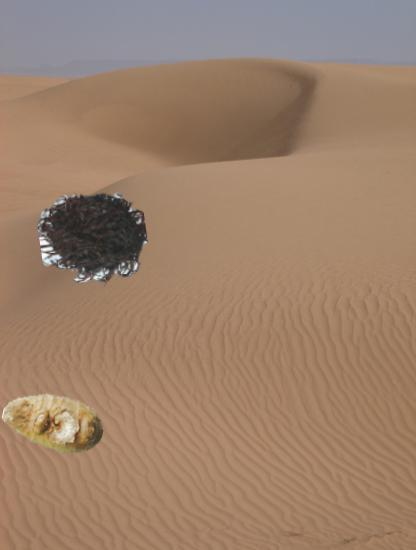Ginger: (2, 371, 105, 474)
Rambutan: (40, 186, 148, 294)
